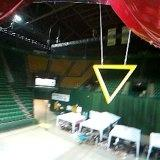Yellow_Triangle_Gshape: (91, 64, 136, 103)
